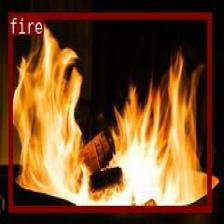fire: (8, 12, 210, 212)
